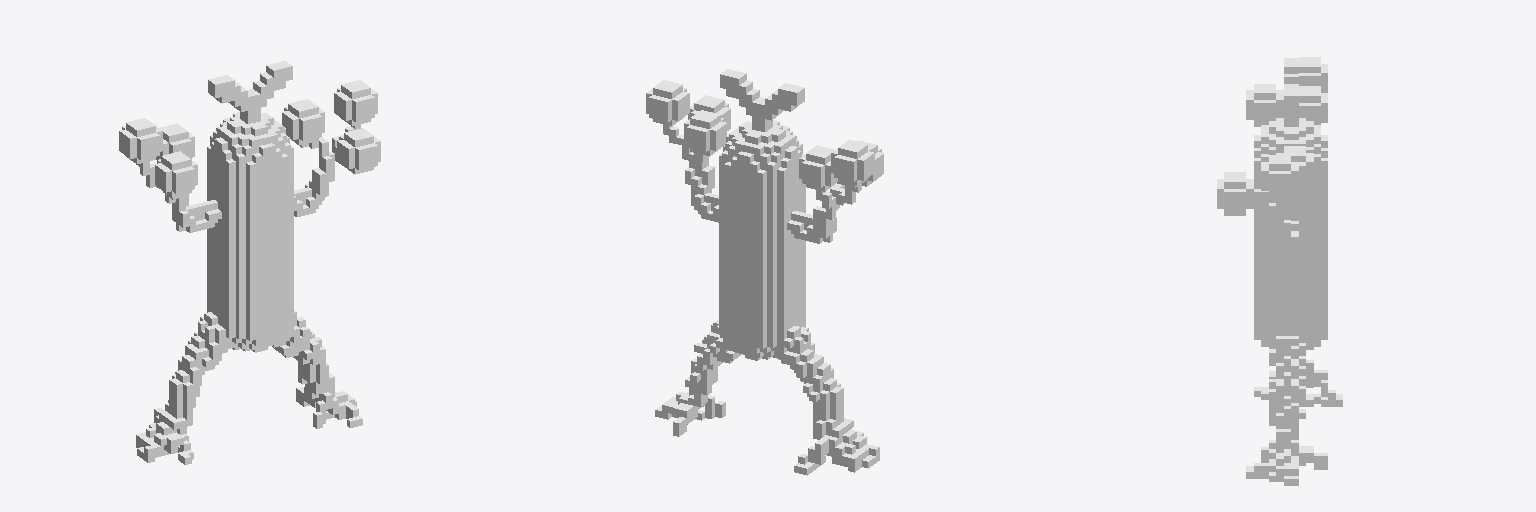
Rendered from sudowoodo.obj.
3 views of the same model, side by side, from view 1: azimuth 30°, elevation 25°; view 2: azimuth 150°, elevation 25°; view 3: azimuth 270°, elevation 25° (orthographic).
Visible parts, largest first — view 1: object 1; view 2: object 1; view 3: object 1.
Part boxes in pixels (bbox=[...]): object 1: bbox=[119, 61, 380, 464]; object 1: bbox=[646, 69, 883, 475]; object 1: bbox=[1217, 57, 1342, 485].
Bounding box in the file's own units: 3.6 × 5.3 × 1.7.